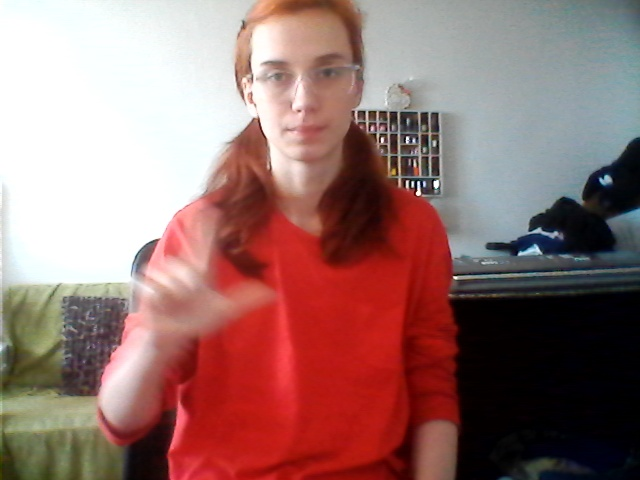l: (129, 203, 283, 351)
